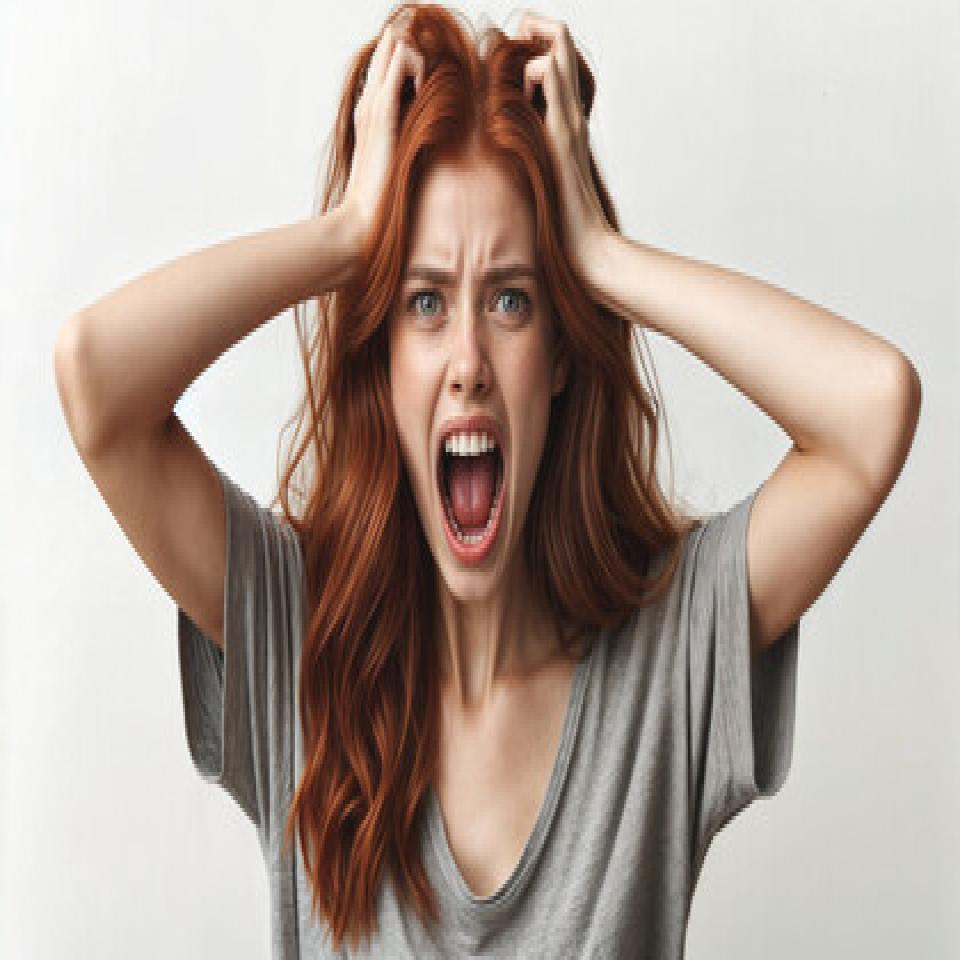Anger: (391, 176, 553, 600)
